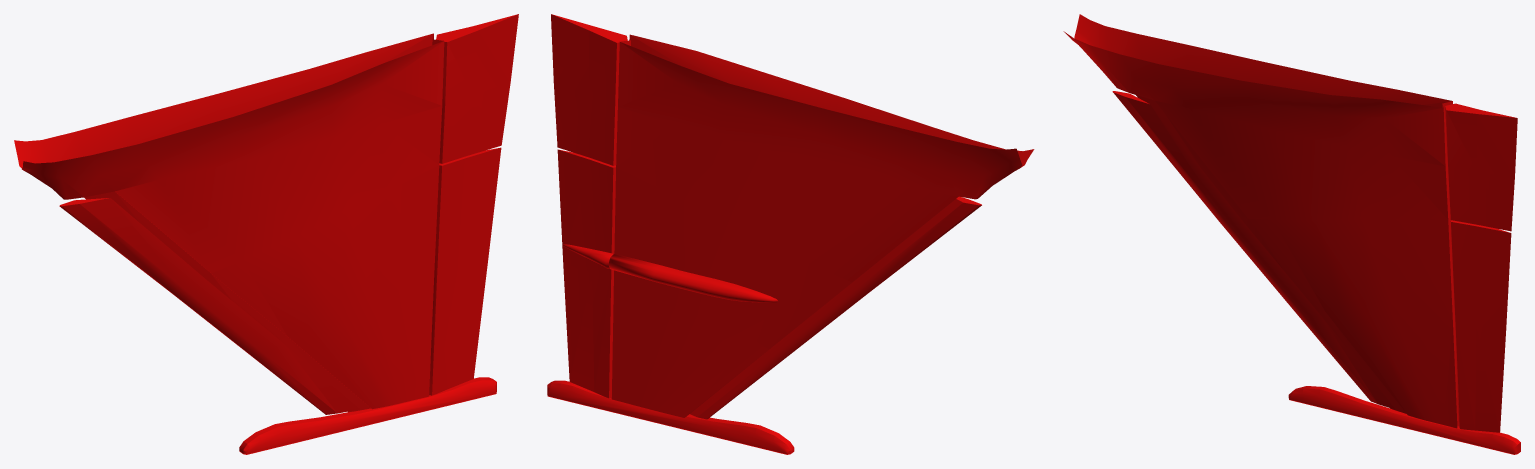
The model's file is rafale_highlight_12.fbx.
The picture shows the model from 3 angles, left to right: view 1: azimuth 30°, elevation 25°; view 2: azimuth 150°, elevation 25°; view 3: azimuth 330°, elevation 25°; orthographic projection. The views are drawn at different scales.
Visible parts, largest first — view 1: rafale_highlight_12; view 2: rafale_highlight_12; view 3: rafale_highlight_12.
Boxes of the visible parts, box(x1,y1,x2,y2) form: rafale_highlight_12: box(14, 14, 518, 454); rafale_highlight_12: box(547, 14, 1034, 454); rafale_highlight_12: box(1063, 14, 1520, 454).
Size of the model in its own units: 205 by 150 by 22.58.
